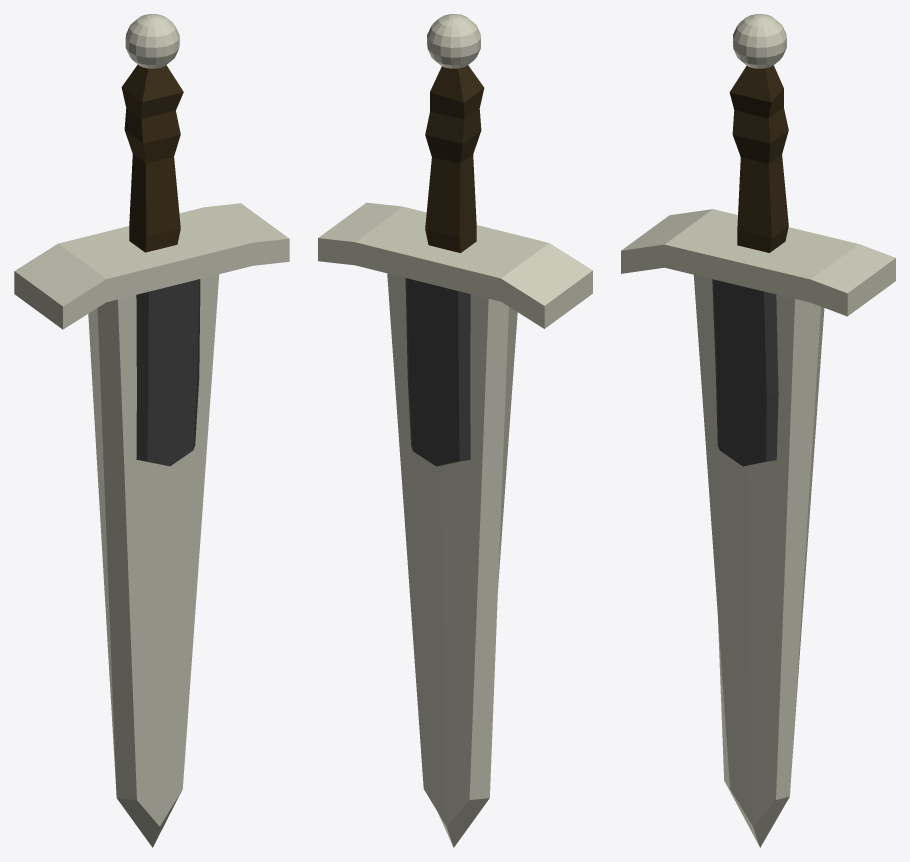
Rendered from sword.fbx.
3 views of the same model, side by side, from view 1: azimuth 30°, elevation 25°; view 2: azimuth 150°, elevation 25°; view 3: azimuth 330°, elevation 25° (orthographic).
Parts seen in each view (by area): view 1: Sword; view 2: Sword; view 3: Sword.
Boxes of the visible parts, <box> form: Sword: <box>14,14,289,847</box>; Sword: <box>318,14,592,847</box>; Sword: <box>621,14,895,847</box>.
Bounding box in the file's own units: 94.33 × 331 × 34.97.
